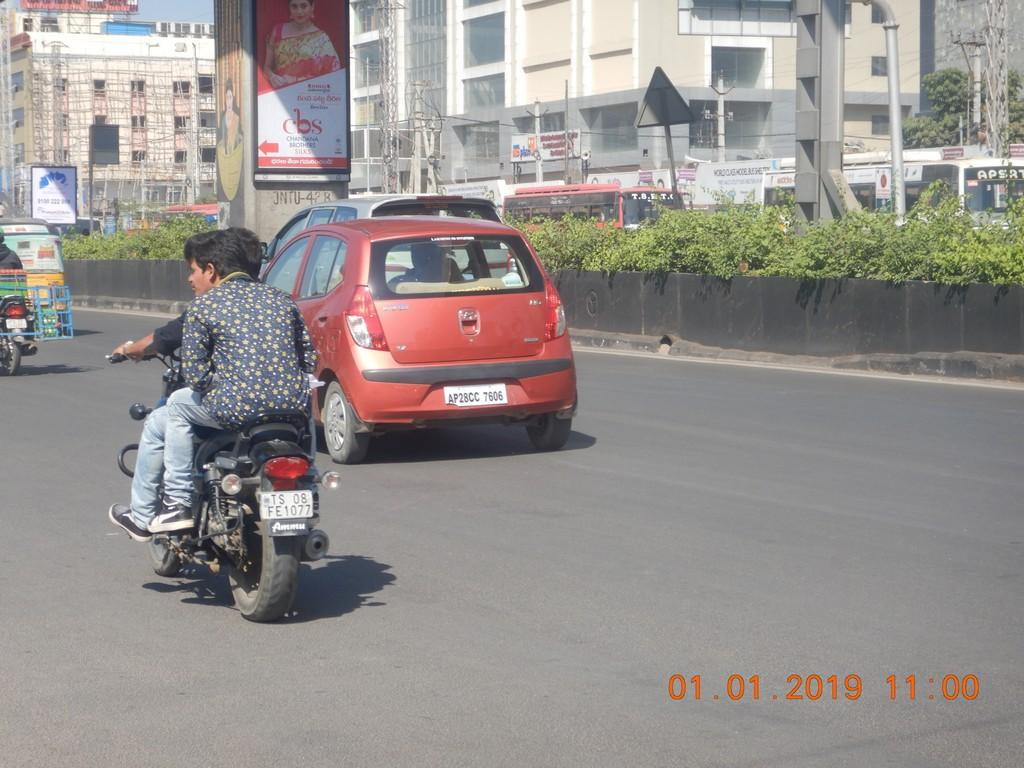plate: (261, 491, 315, 519)
